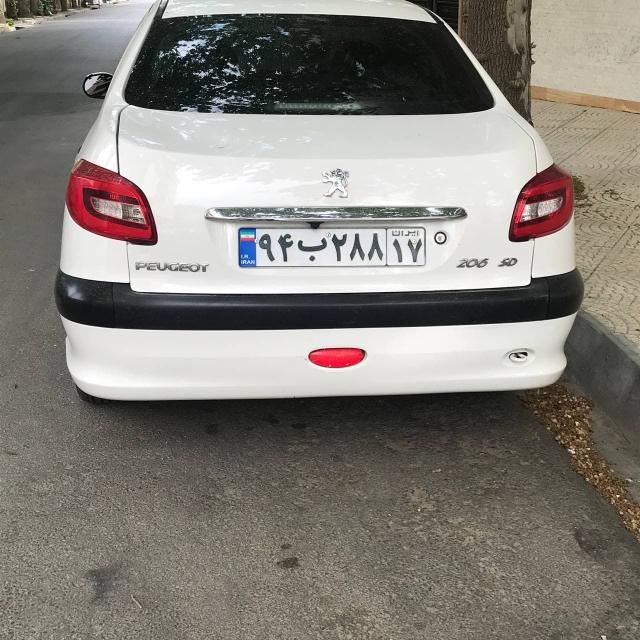Plates: (239, 227, 425, 267)
